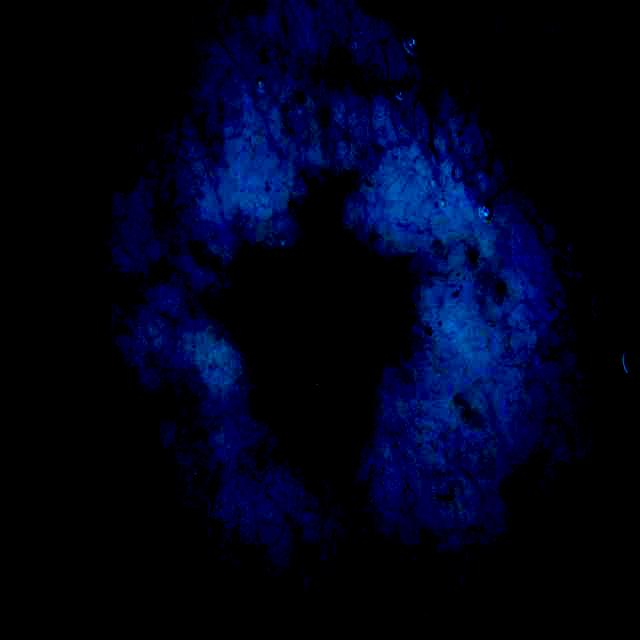MEL: (229, 205, 402, 450)
